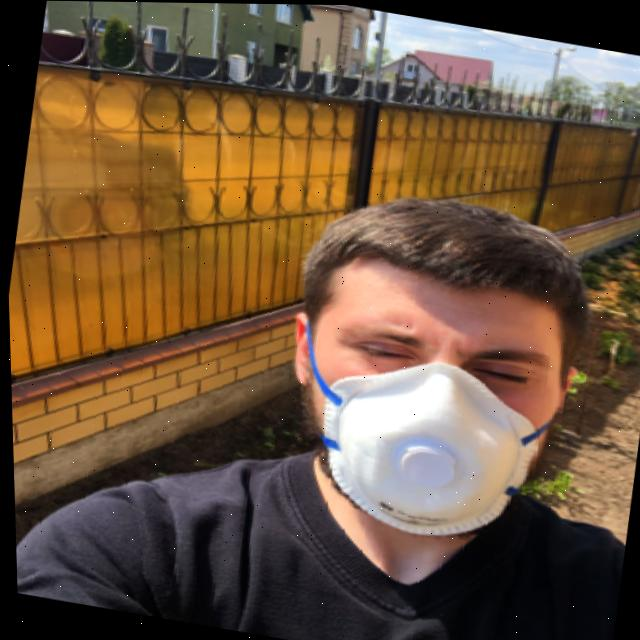Mask: (253, 318, 591, 557)
